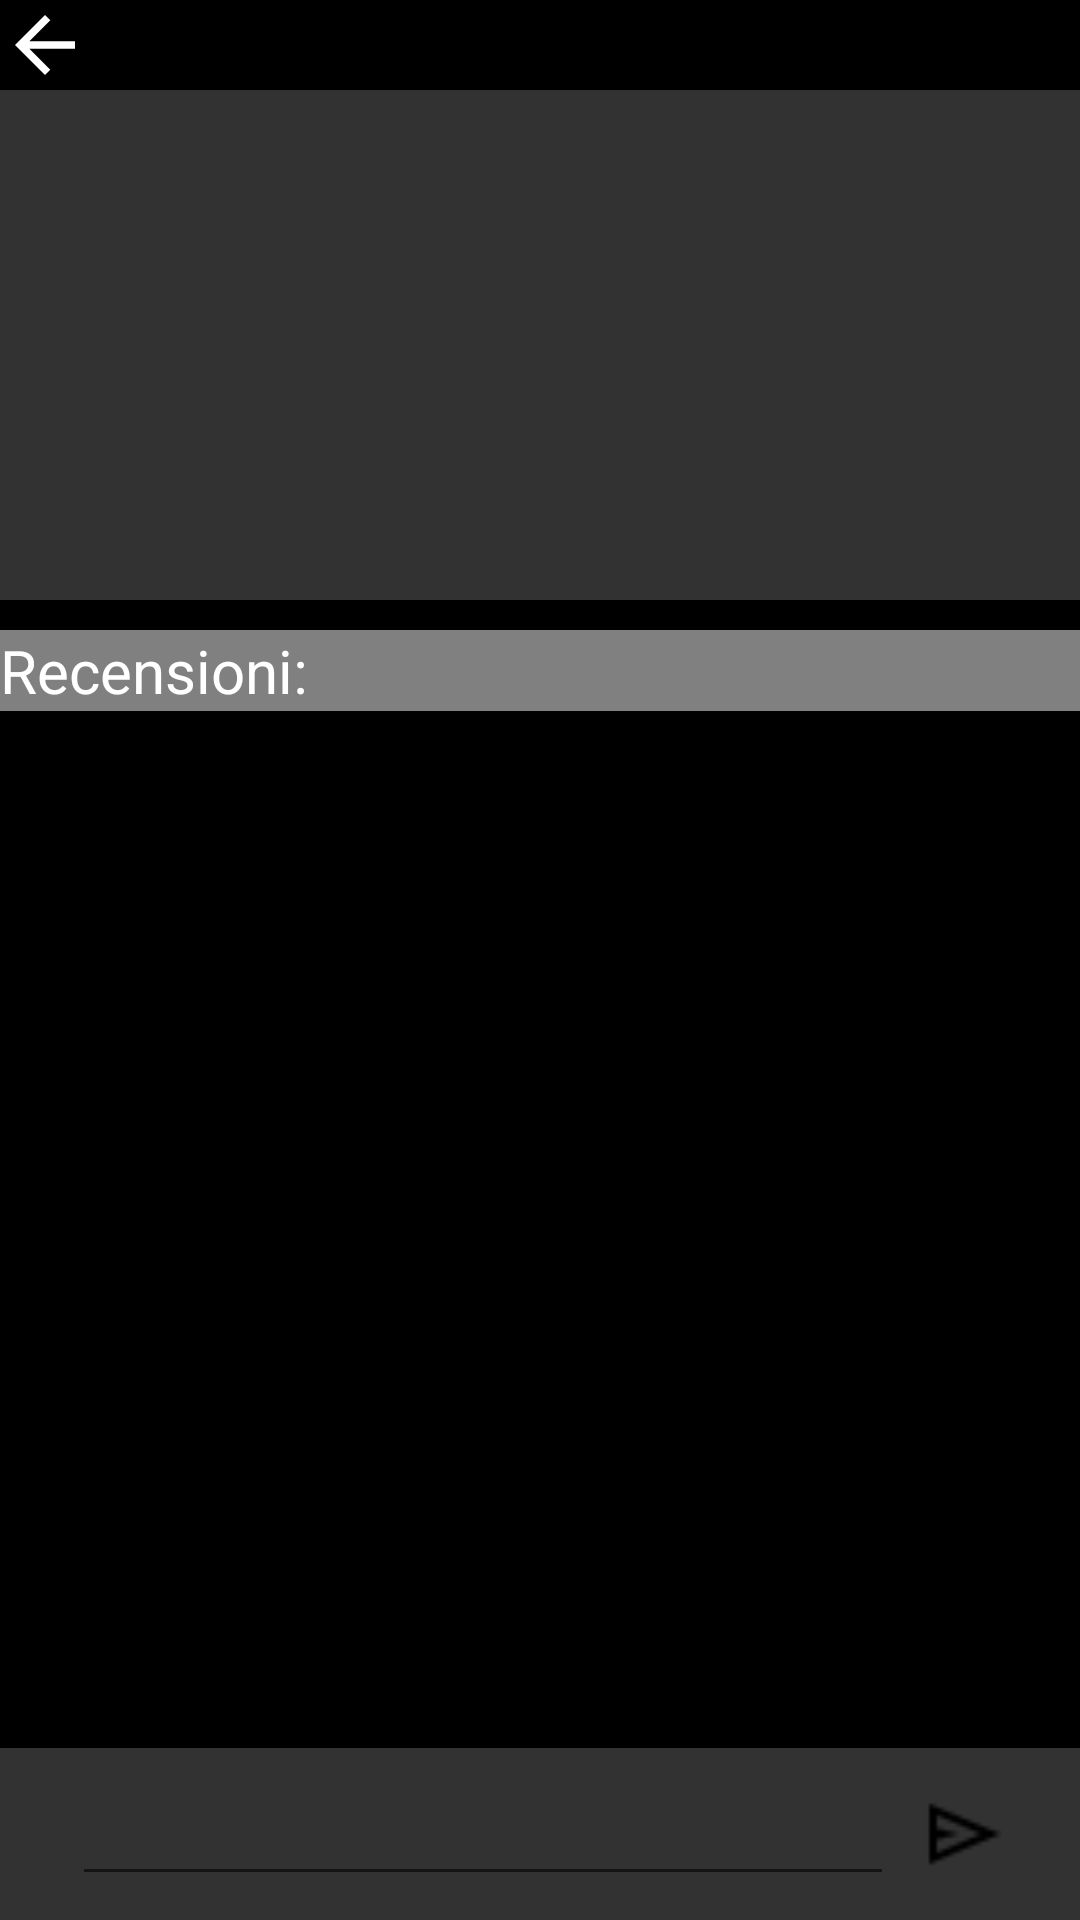

Icons on this 1080×1920 Android screen, each with the point to tap as point (x, y):
arrow back: point (45, 45)
send: point (962, 1834)
